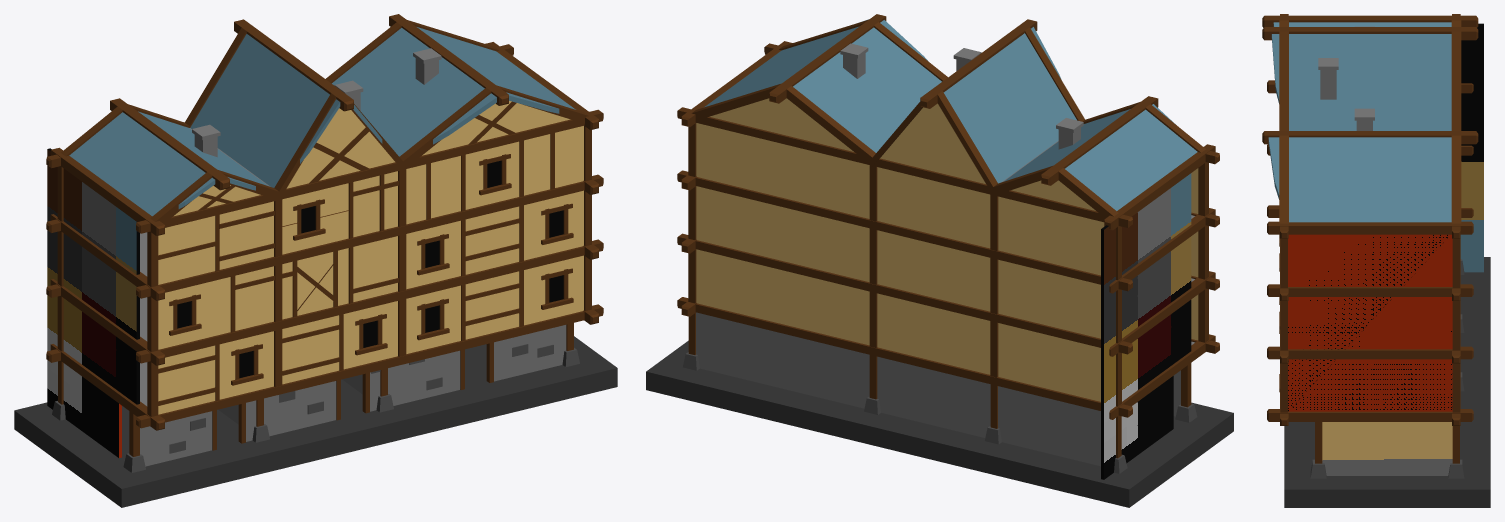
File: MBS_City_Core01.fbx
The picture shows the model from 3 angles, left to right: view 1: azimuth 30°, elevation 25°; view 2: azimuth 150°, elevation 25°; view 3: azimuth 270°, elevation 25°; orthographic projection. The views are drawn at different scales.
Parts seen in each view (by area): view 1: MBS_City_Core01_LOD0; view 2: MBS_City_Core01_LOD0; view 3: MBS_City_Core01_LOD0.
Boxes of the visible parts, box(x1,y1,x2,y2) form: MBS_City_Core01_LOD0: box(14, 14, 617, 507); MBS_City_Core01_LOD0: box(646, 14, 1233, 507); MBS_City_Core01_LOD0: box(1262, 14, 1490, 507).
Bounding box in the file's own units: 4000 × 2785 × 1660.
